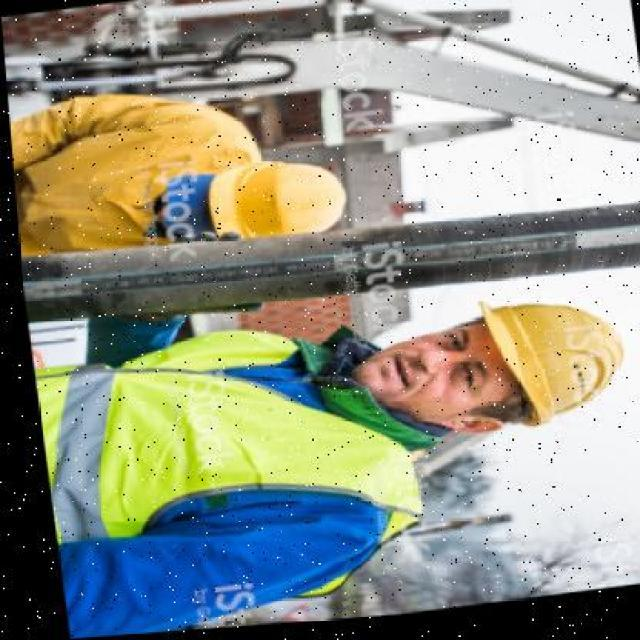helmet: (465, 285, 630, 447)
vest: (39, 311, 403, 573)
